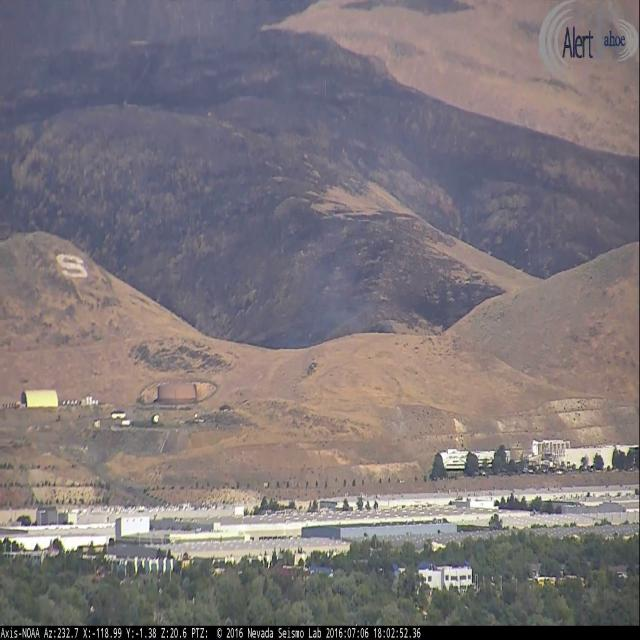smoke: (216, 0, 404, 345)
